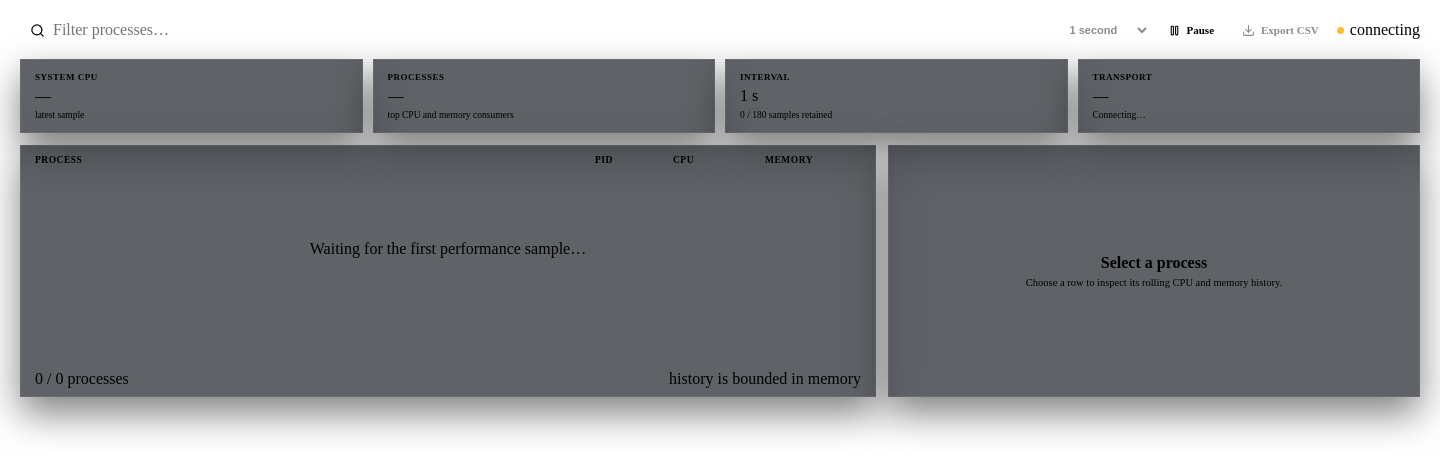
Test case: Performance workflow › does not start a late stream after pausing during listener registration
The image size is (1440, 456).
Click the button "Pause" at [1191, 30], box [1158, 16, 1224, 44]
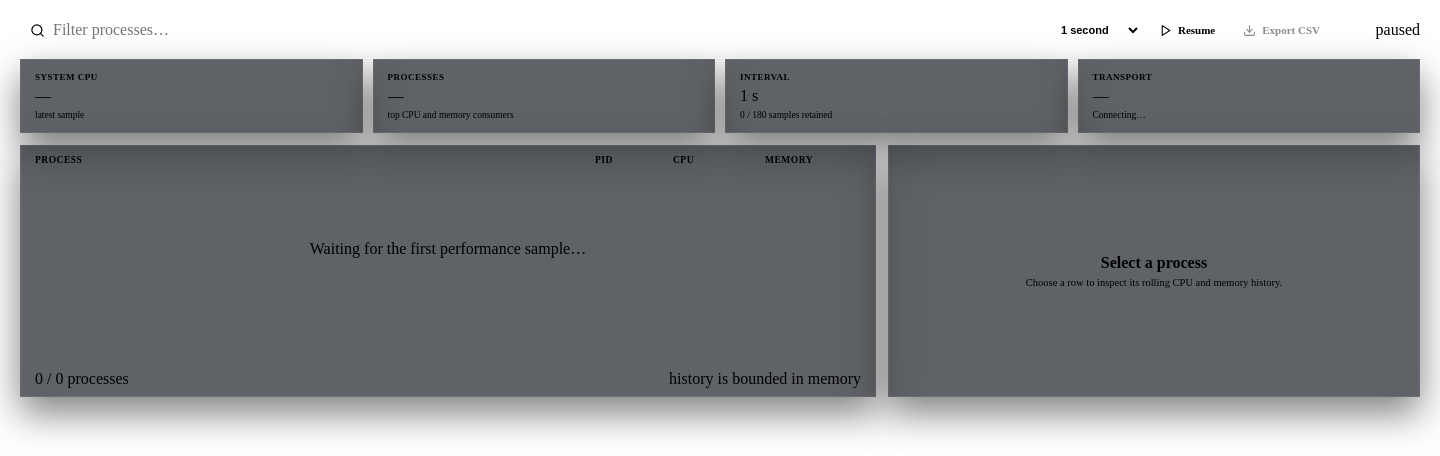
Now the button "Resume" is shown, box [1149, 16, 1225, 44]
